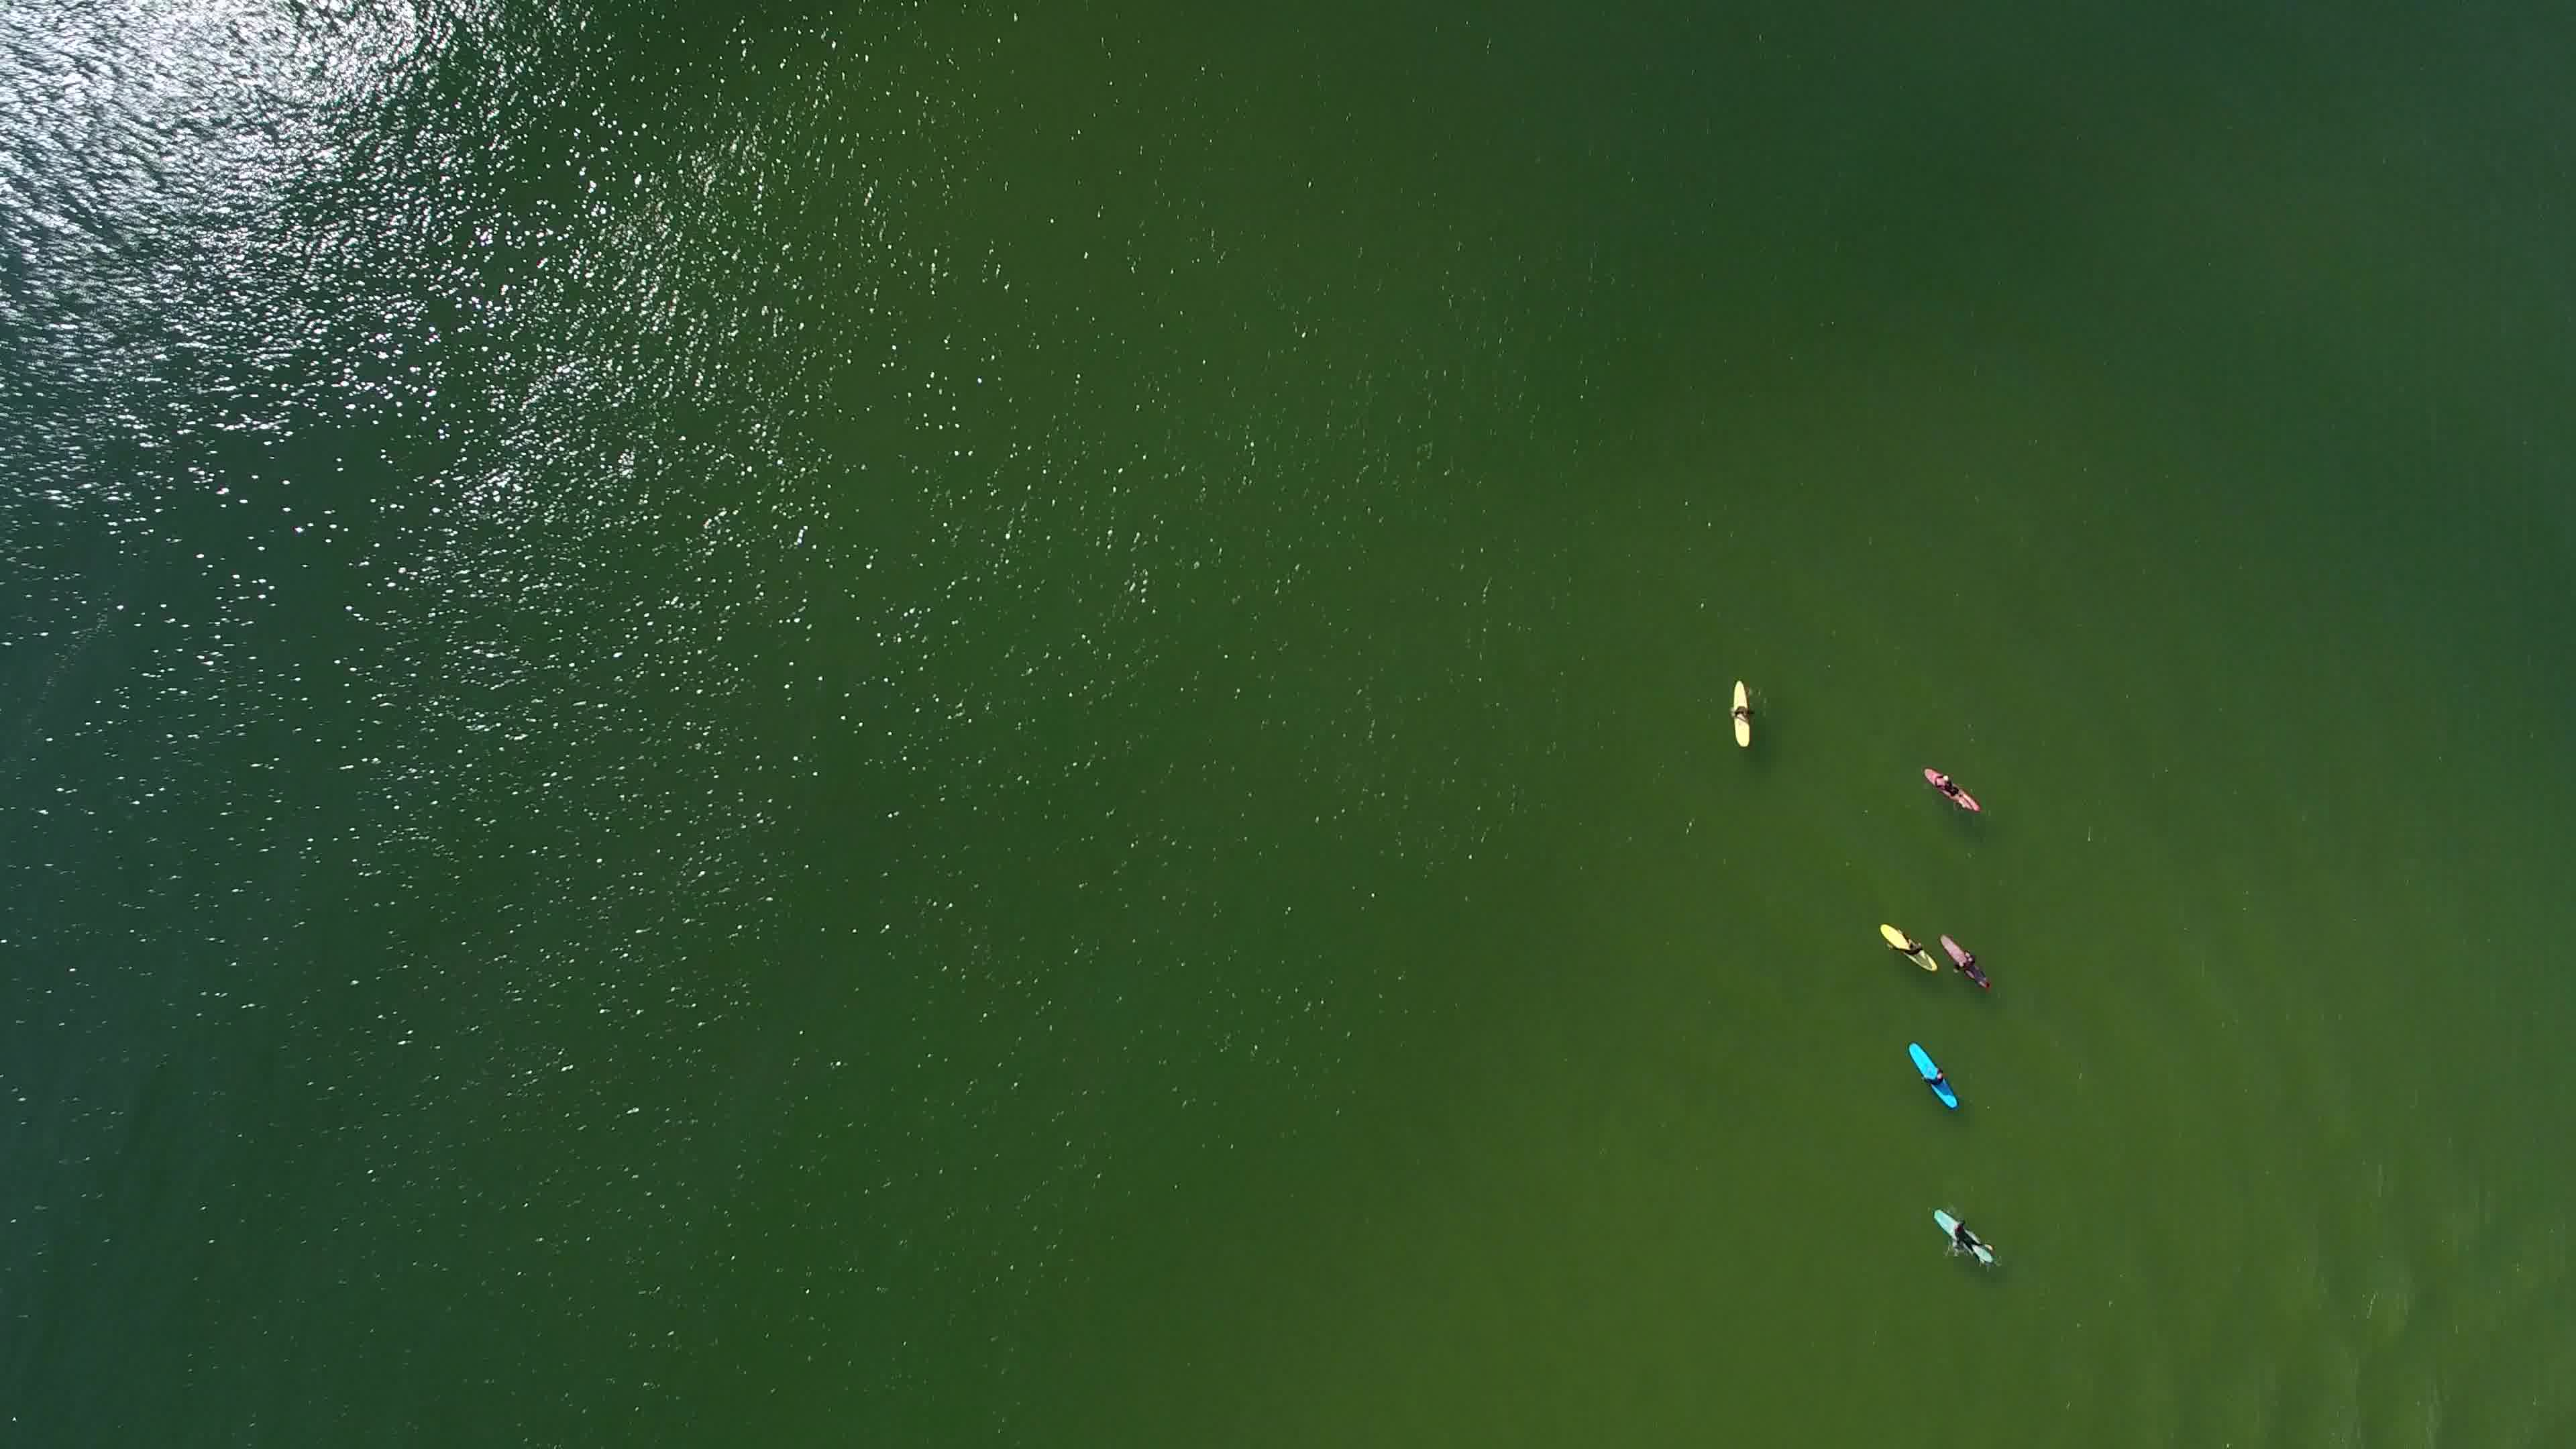surfer: (1921, 1200, 2001, 1274), (1928, 927, 2005, 998), (1911, 763, 1983, 823), (1904, 1040, 1964, 1113), (1874, 916, 1943, 978), (1723, 674, 1760, 757)
